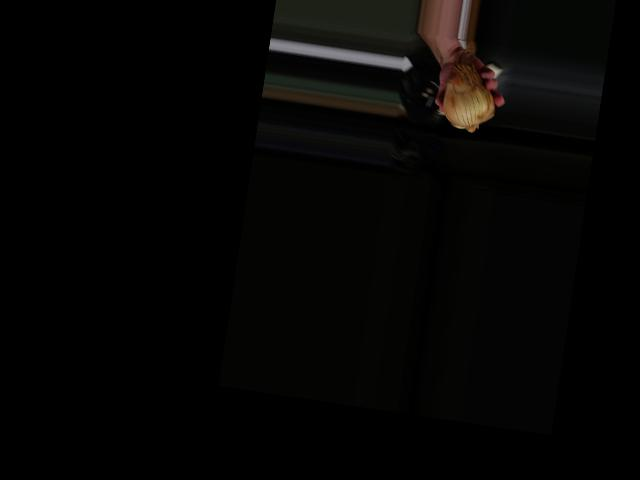onion: (438, 63, 499, 134)
